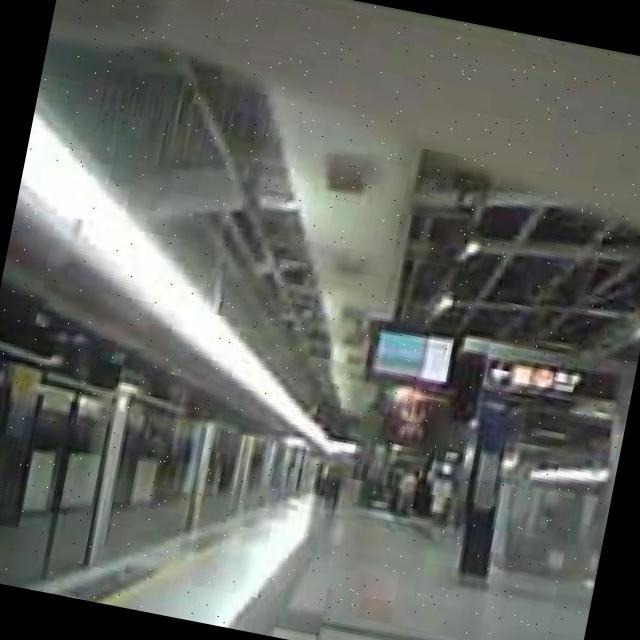person: (392, 466, 421, 519)
